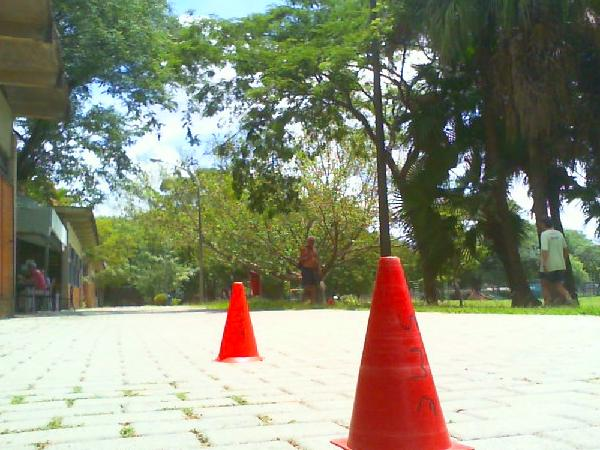0 cone: (330, 256, 475, 450), (211, 282, 264, 362)
